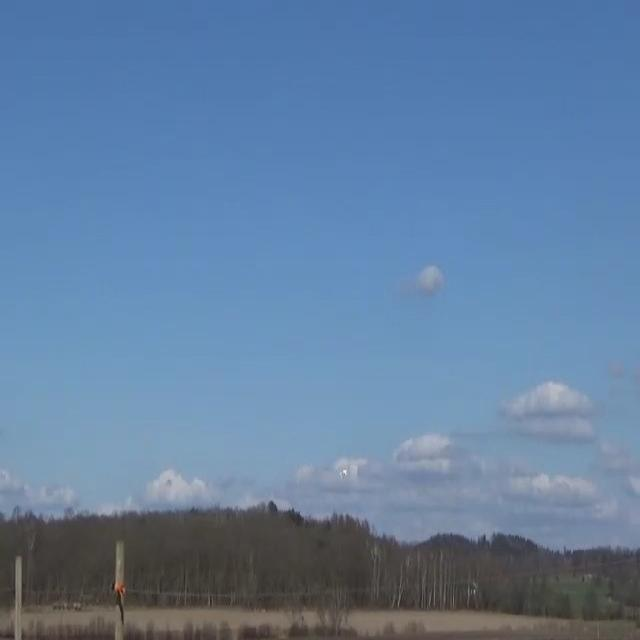drone: (339, 469, 346, 479)
